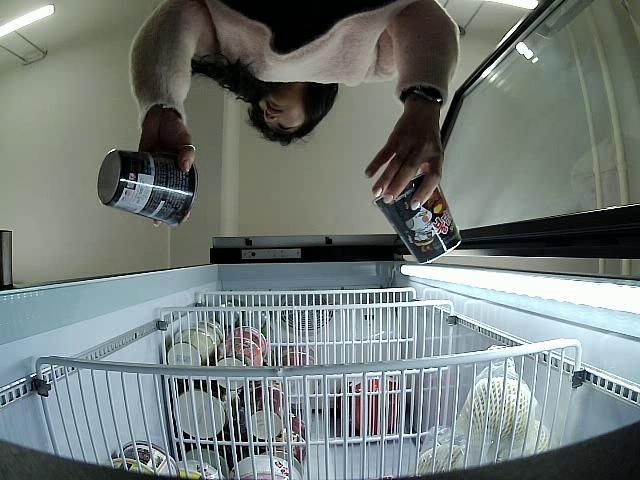08_buldak_S: (376, 172, 462, 266), (98, 149, 198, 226)
